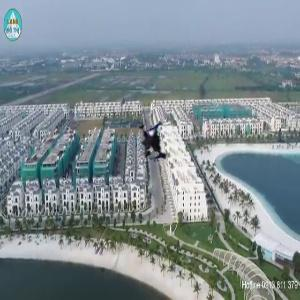drone: (126, 102, 200, 176)
